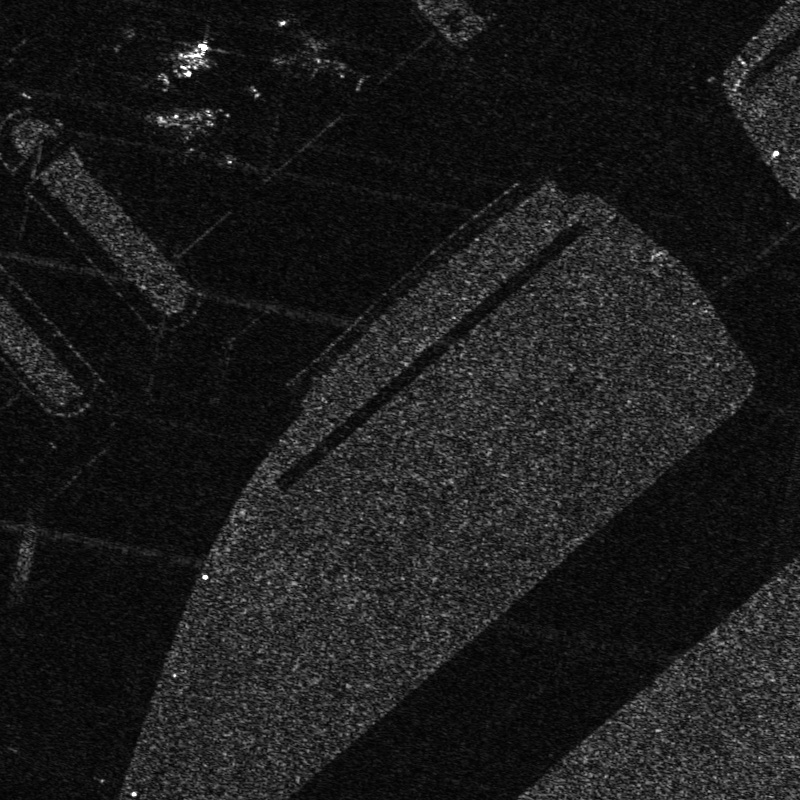Boeing737: (268, 13, 354, 84)
